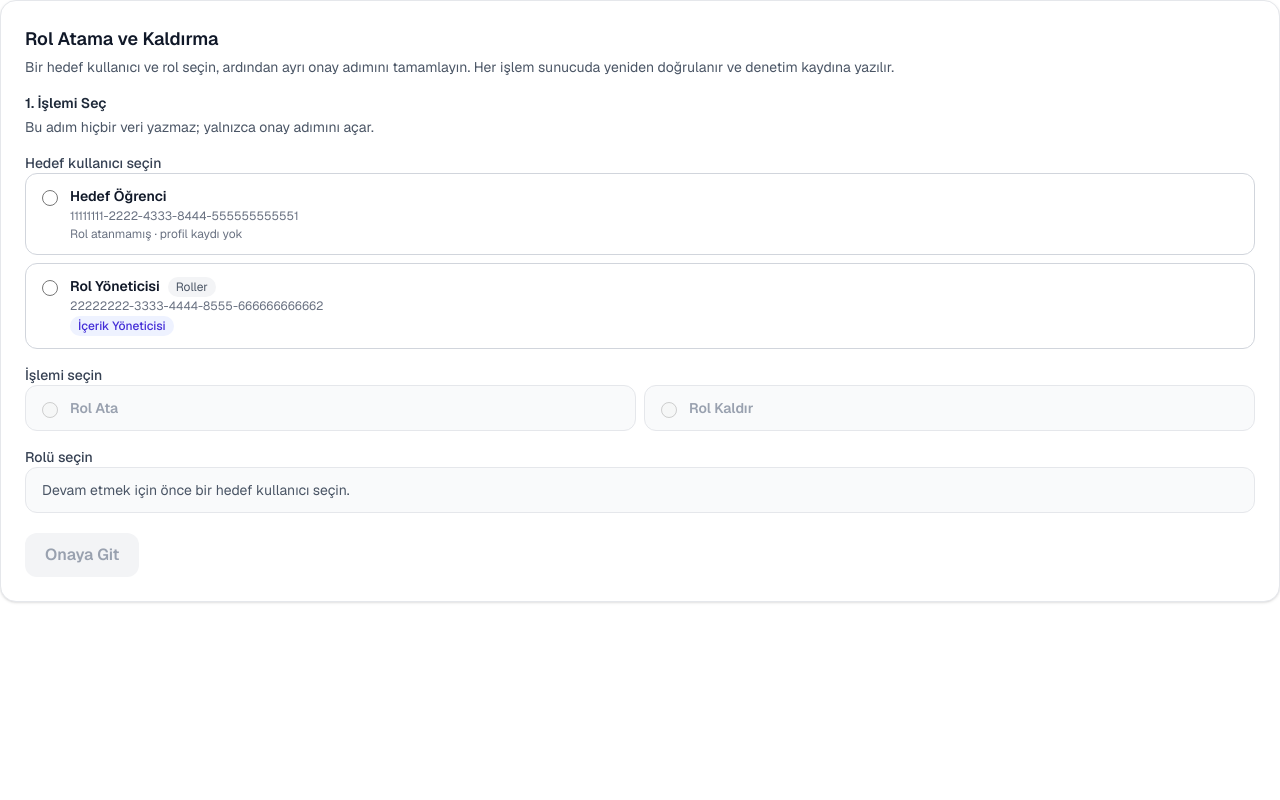
kilit kapı: yazmadan önce onay adımı yoktur › hedef + işlem + rol seçimi tek başına onay adımını AÇMAZ
Click the radio button labelled "Hedef Öğrenci".
click(50, 198)  # box [42,190,58,206]
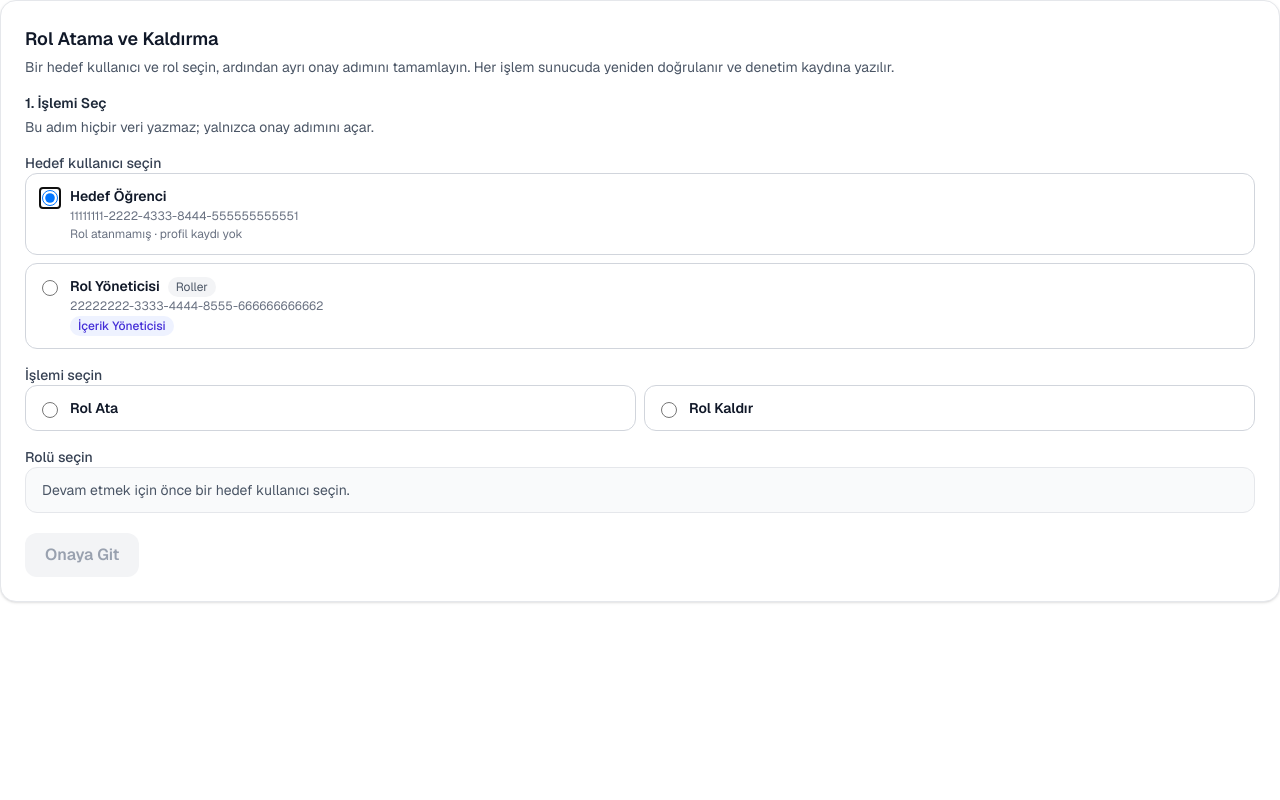
Click the radio button labelled "Rol Ata".
click(50, 410)  # box [42,402,58,418]
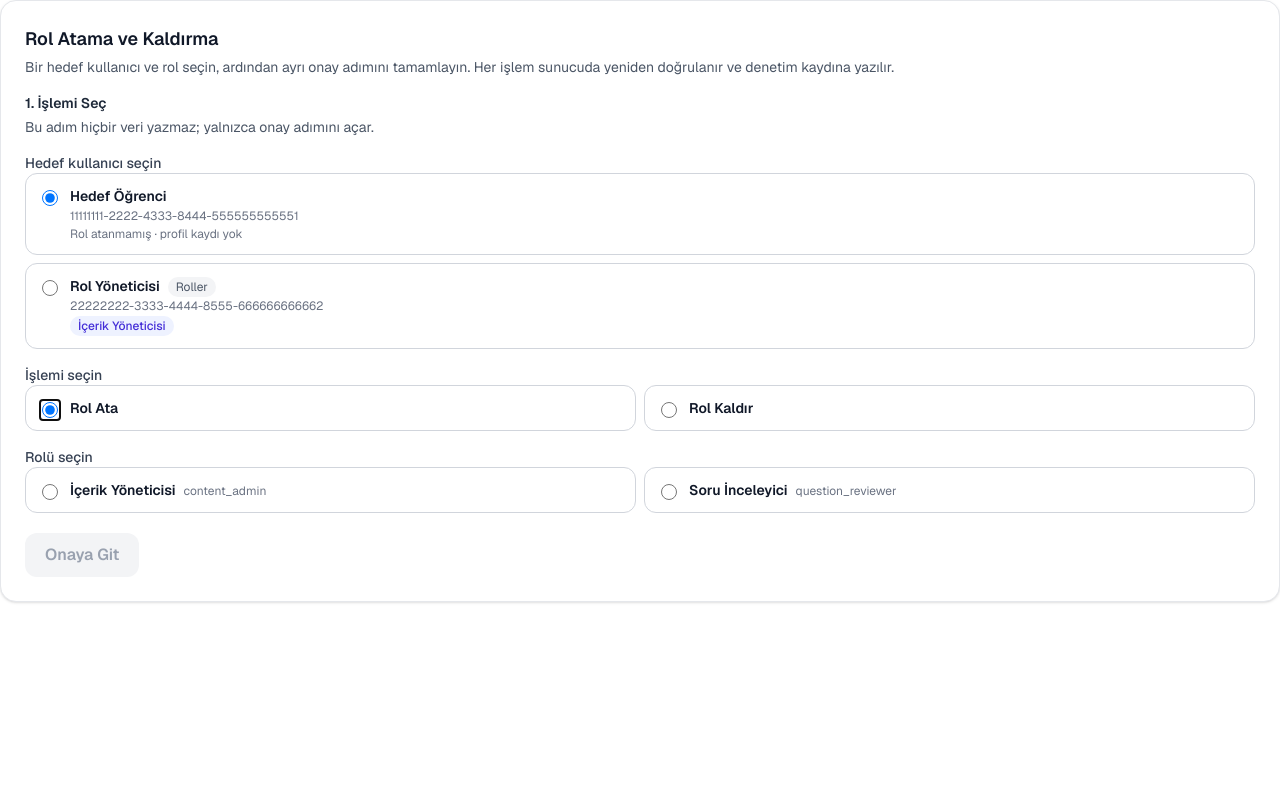
Click the radio button labelled "question_reviewer".
click(669, 492)  # box [661,484,677,500]
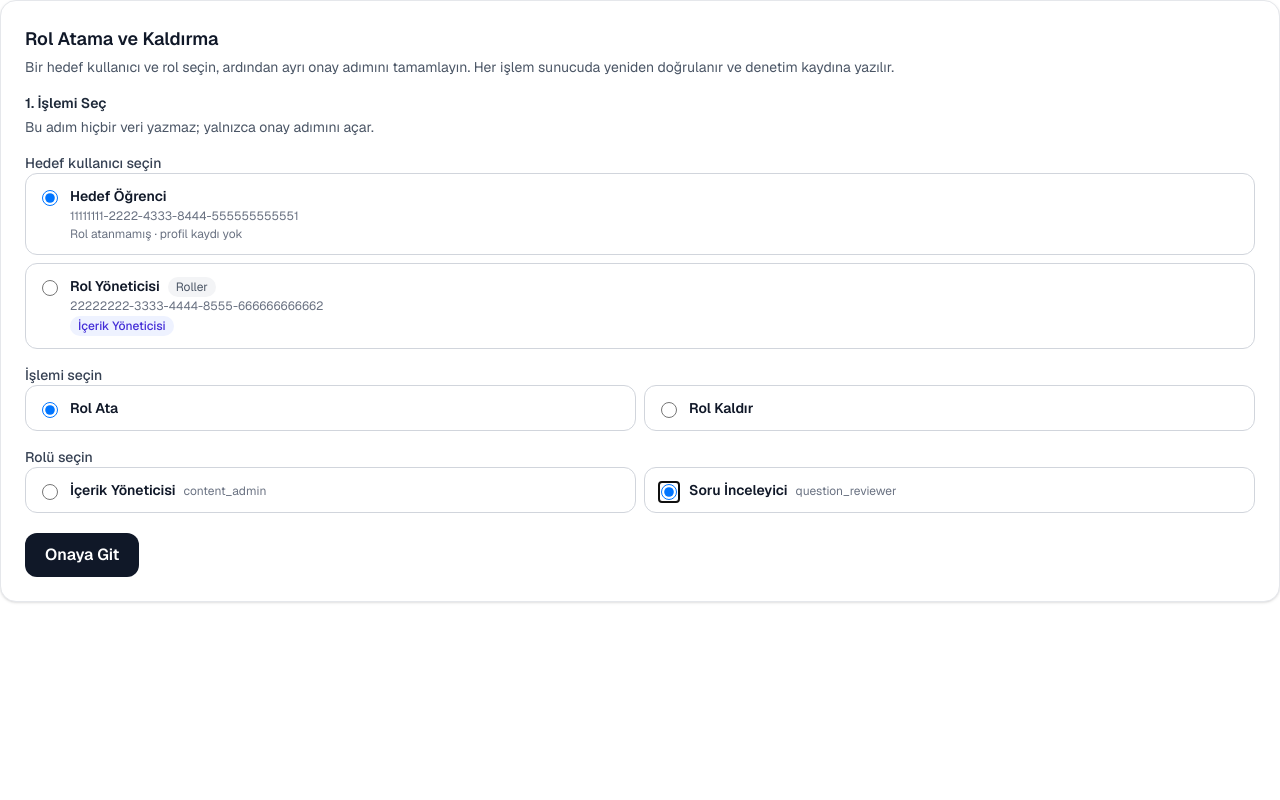
Check: the button "Onaya Git" is enabled, box [25,533,139,577]
